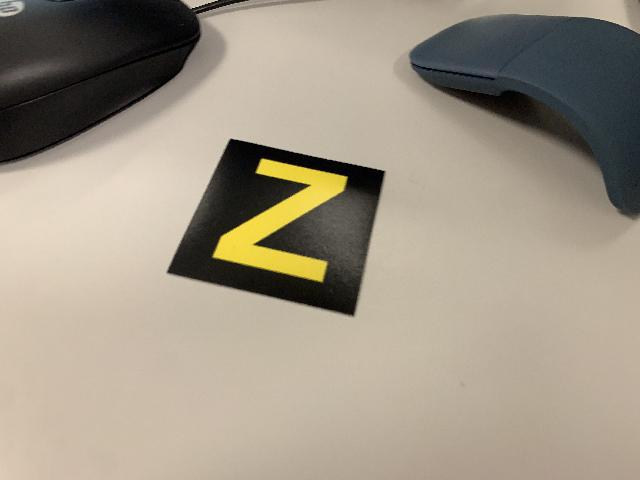z: (165, 137, 388, 319)
